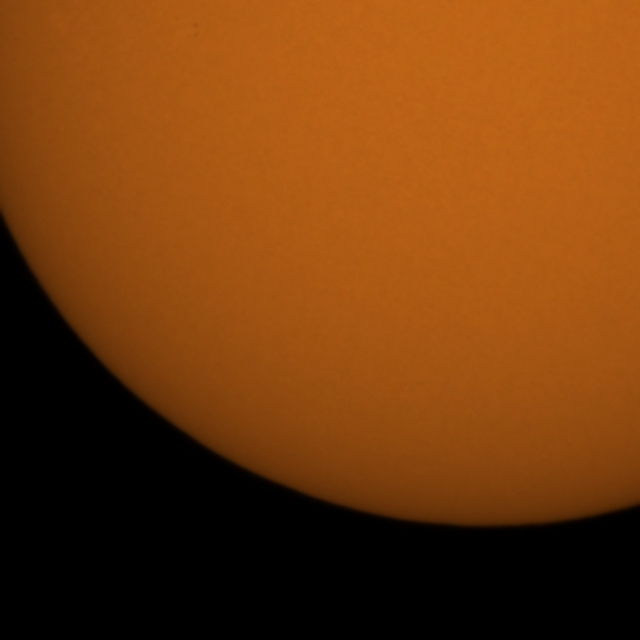sunspot: (190, 20, 201, 39)
